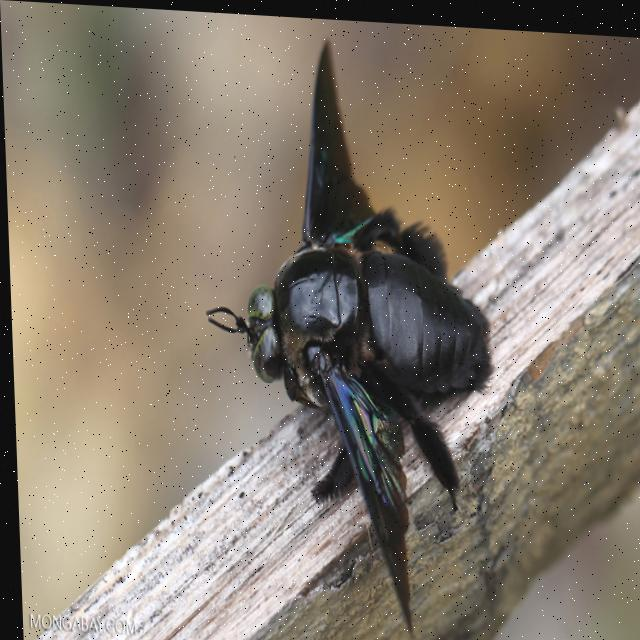Xylocopa: (180, 16, 543, 612)
